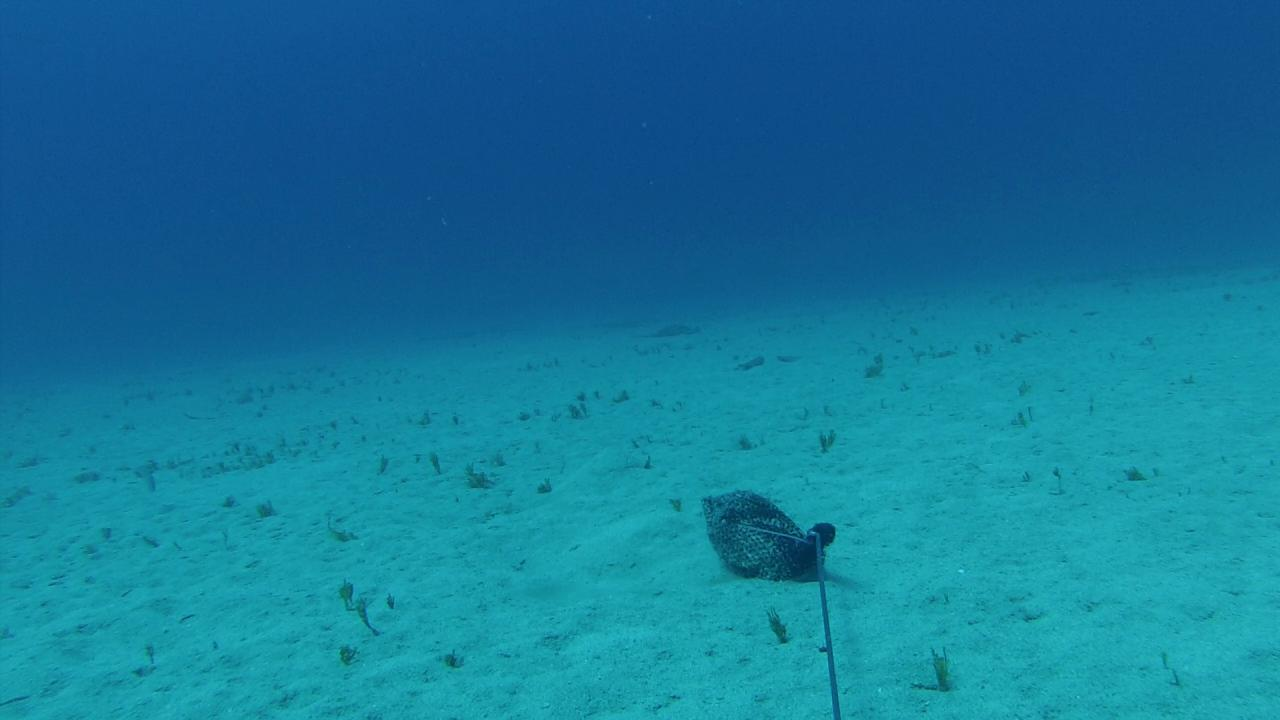dasyatis: (625, 320, 703, 338)
